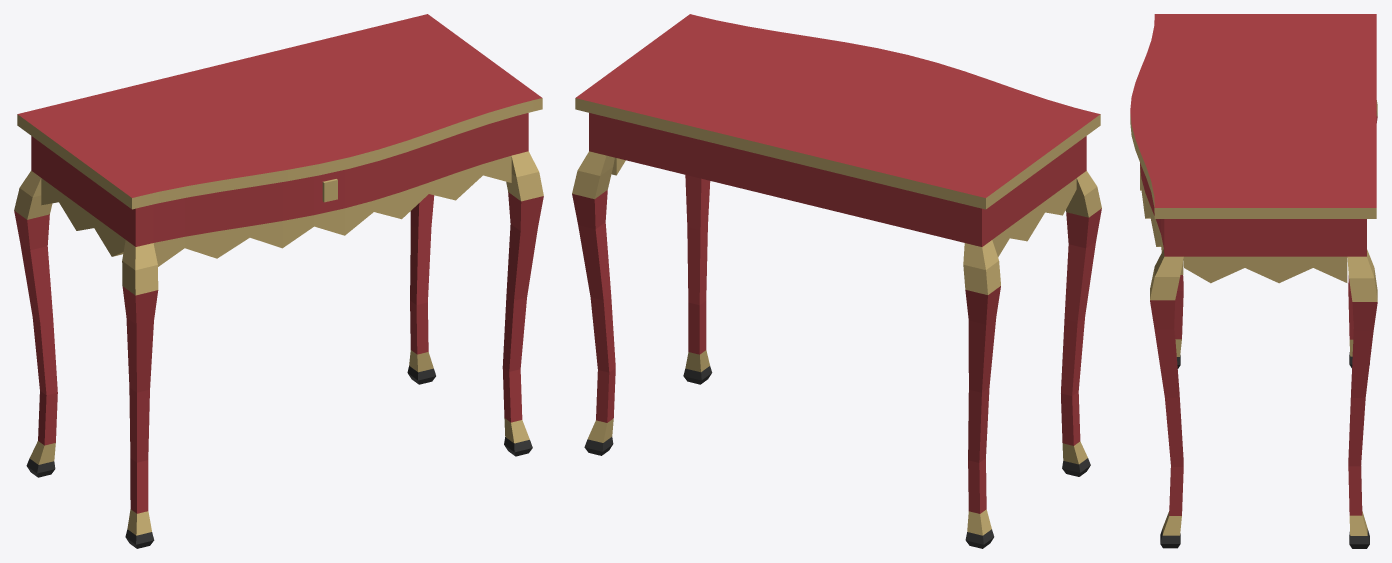
The model's file is mesita.fbx.
3 renders of one model, left to right at view 1: azimuth 30°, elevation 25°; view 2: azimuth 150°, elevation 25°; view 3: azimuth 270°, elevation 25°, orthographic. The views are drawn at different scales.
Parts seen in each view (by area): view 1: consola_roja; view 2: consola_roja; view 3: consola_roja.
Part boxes in pixels (x1,y1,x2,y2): consola_roja: [14, 14, 543, 548]; consola_roja: [572, 14, 1101, 548]; consola_roja: [1130, 14, 1377, 548].
Size of the model in its own units: 95.26 by 78 by 50.72.
